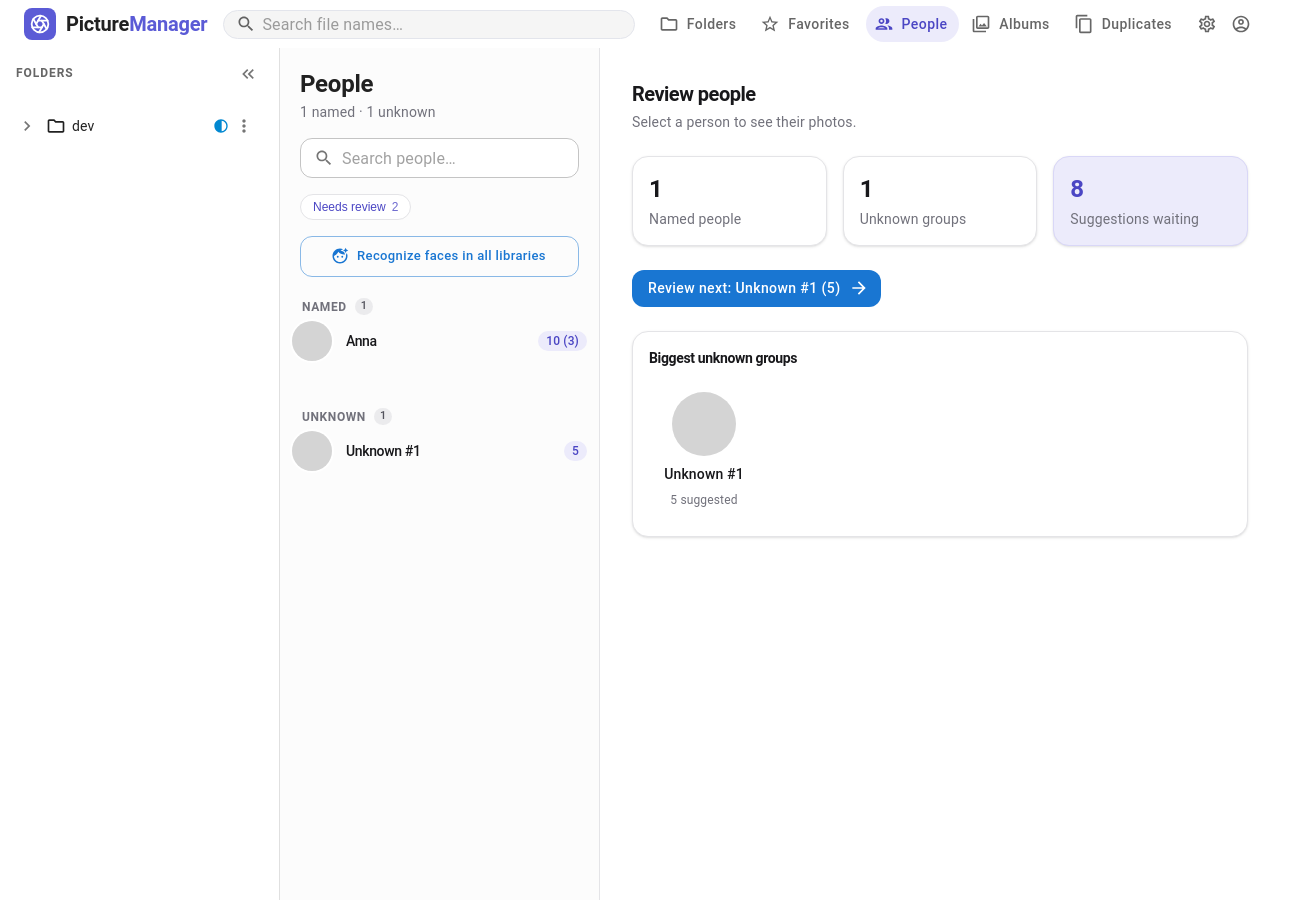
Test: PeoplePage › selecting a person shows their photos next to the list
What coordinates should you click on to do the following:
click the link "Anna 10 (3)"
I would click on:
 (312, 341)
Its box is top-left (292, 321), bottom-right (587, 361).
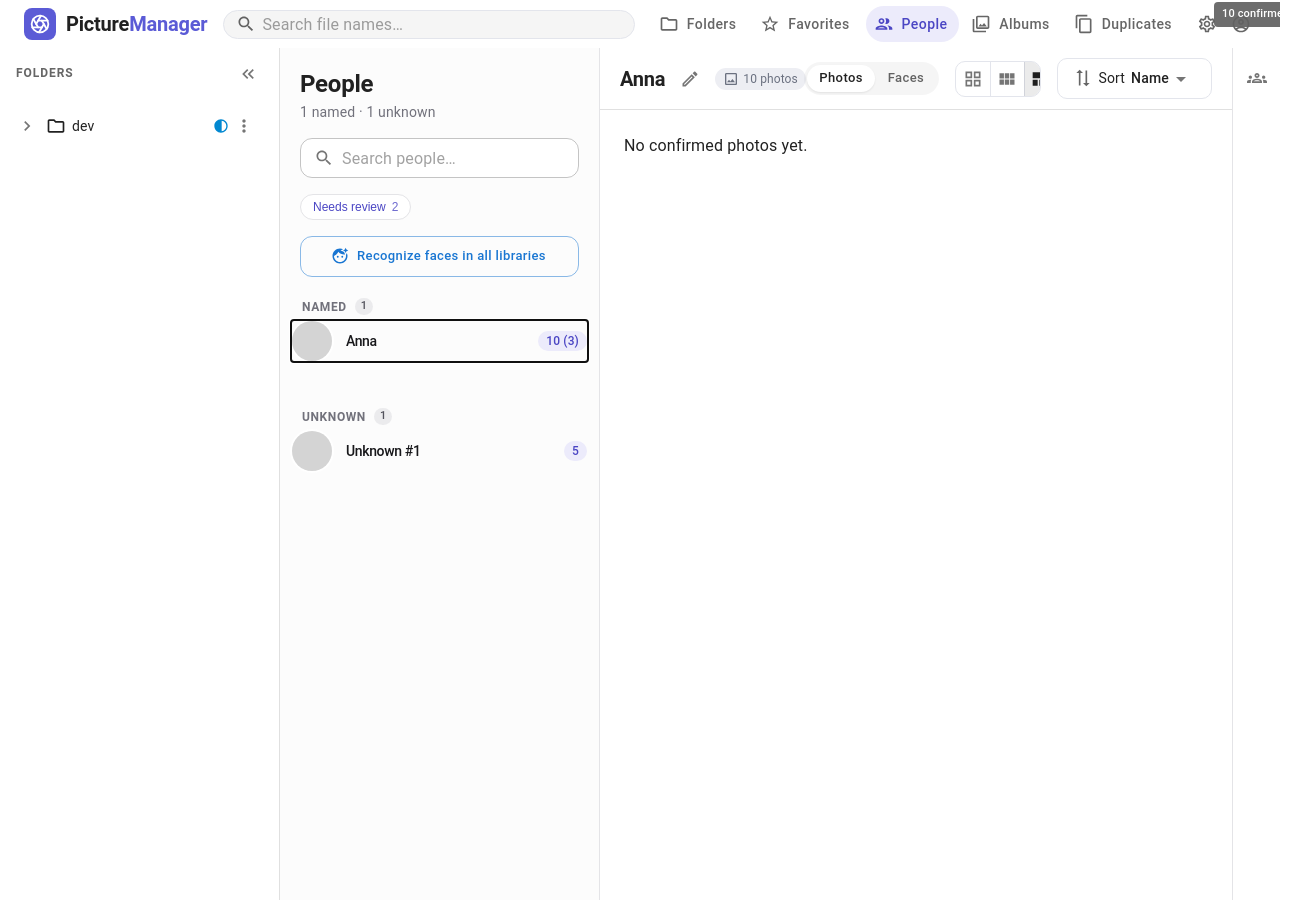
Result: the heading "Anna" is shown at top-left (620, 62), bottom-right (665, 94)
